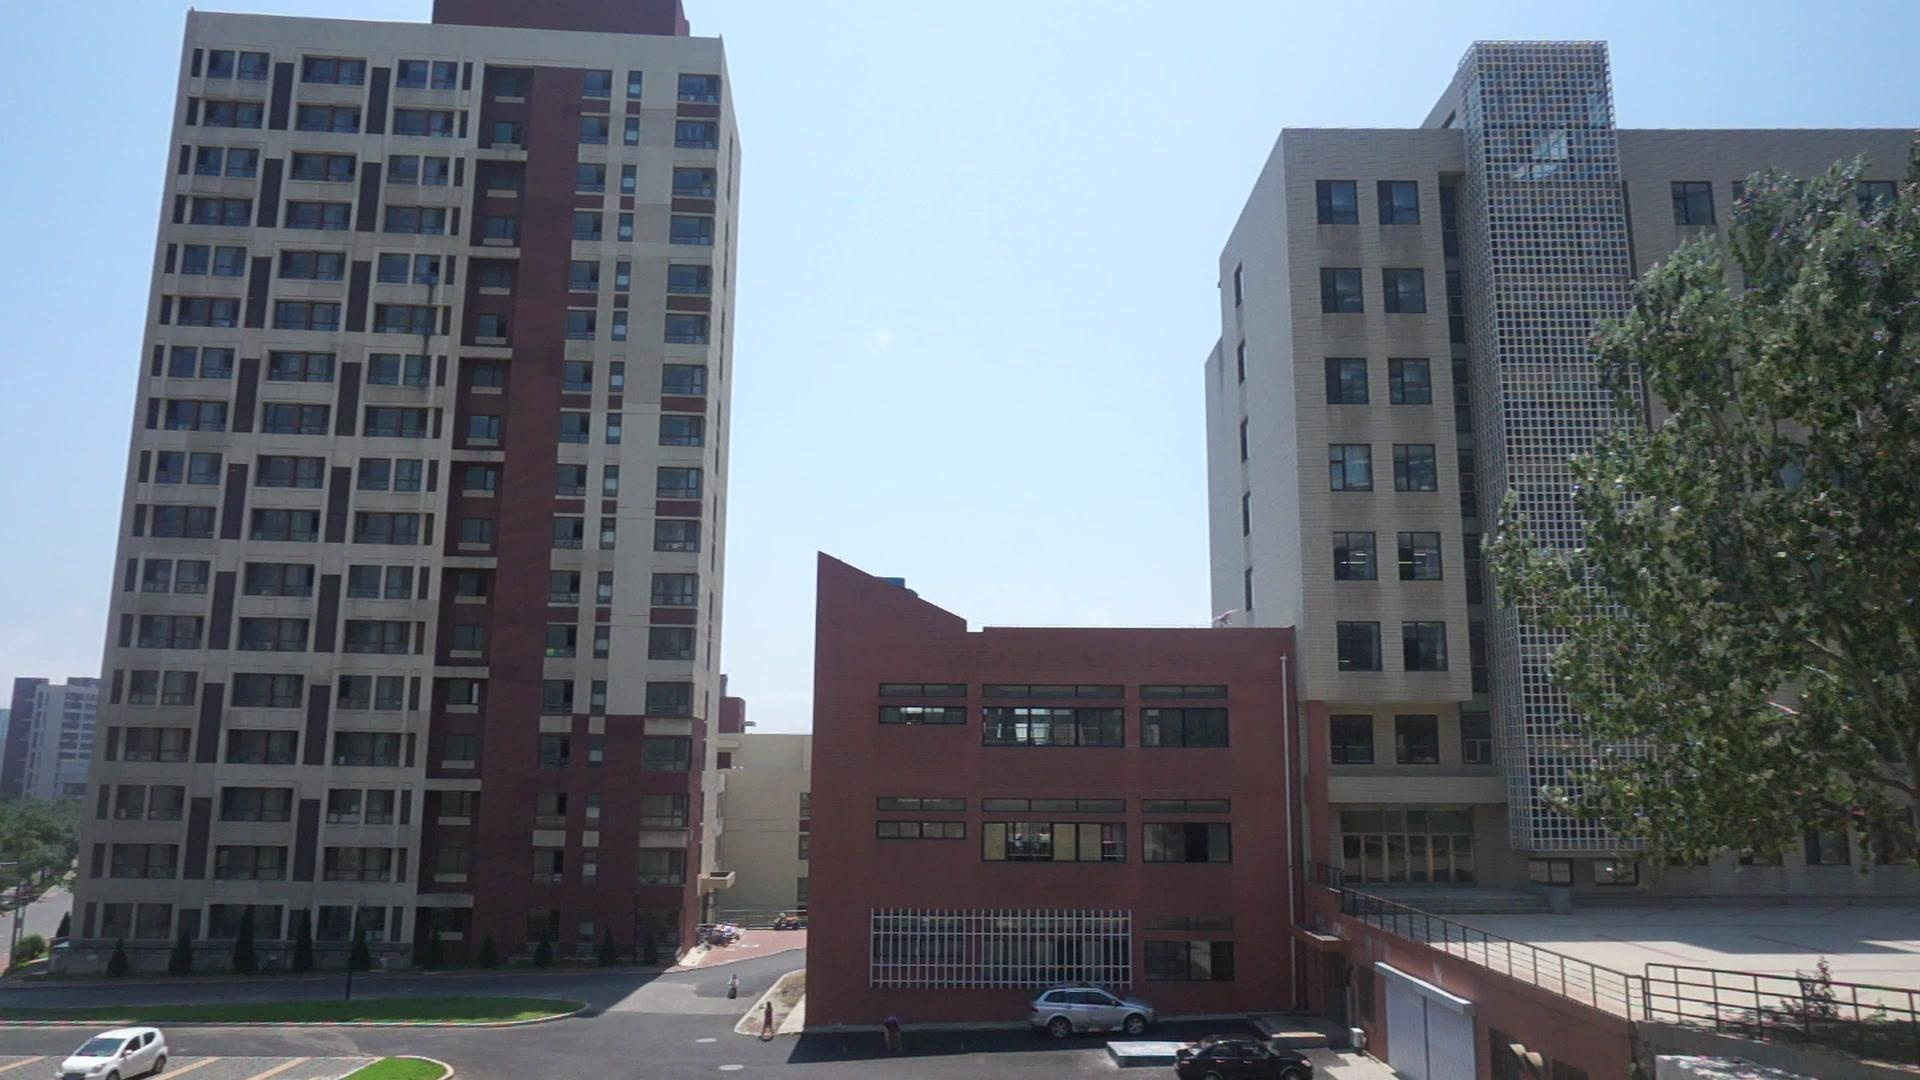UAV: (1211, 608, 1244, 628)
